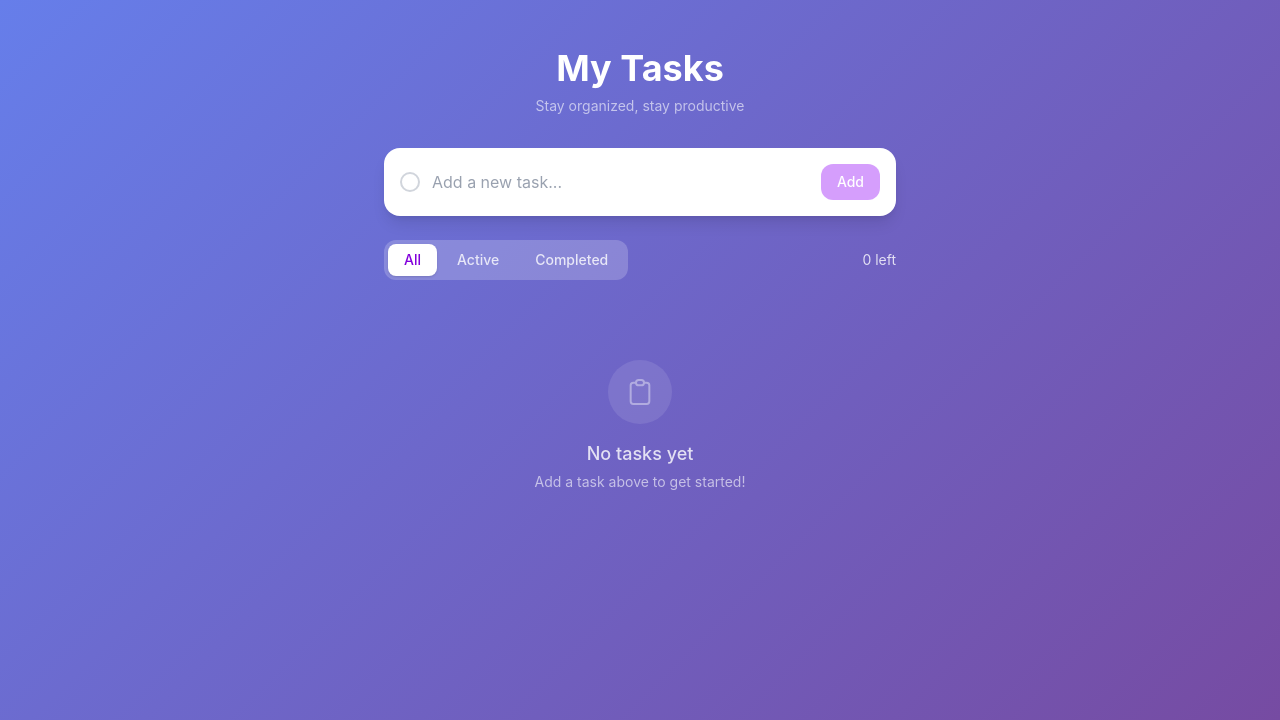
App › タスクを完了にすると activeCount が減る
Type "Task A" into the field with placeholder "Add a new task...".
click(620, 182); type("Task A")  # box [432,170,809,194]
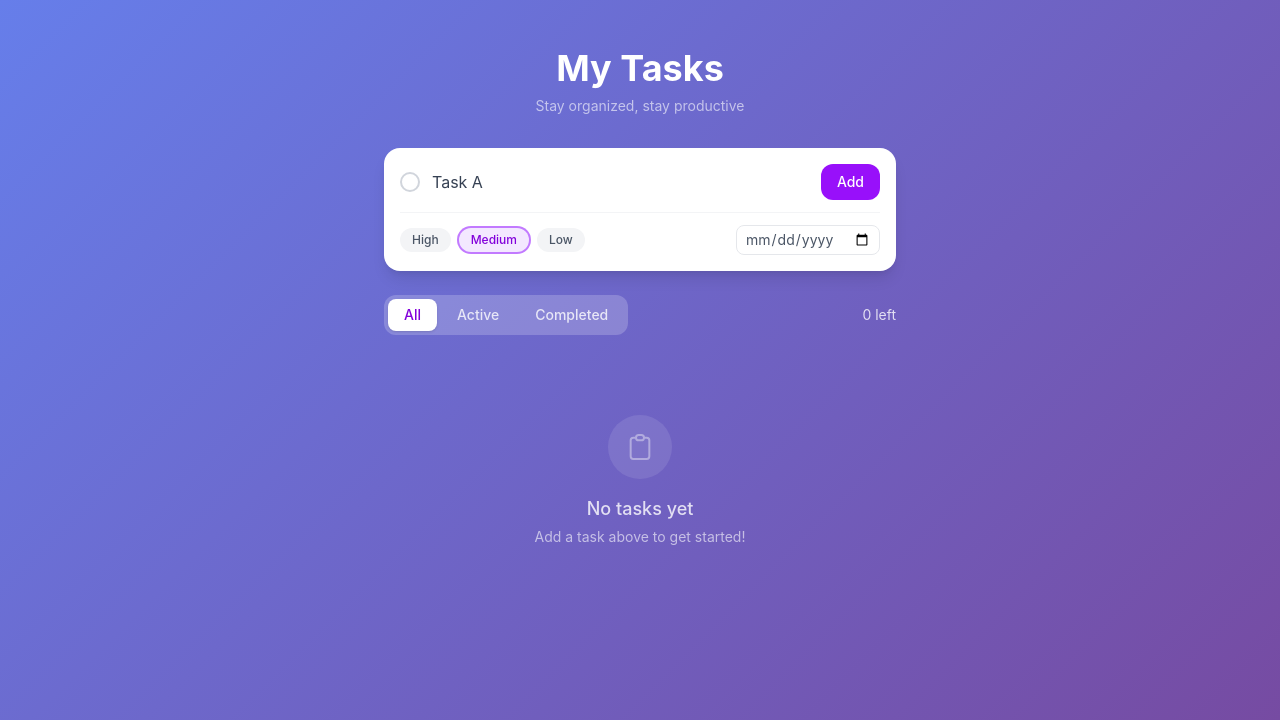
Click the button "Add".
click(850, 182)  # box [821,164,880,200]
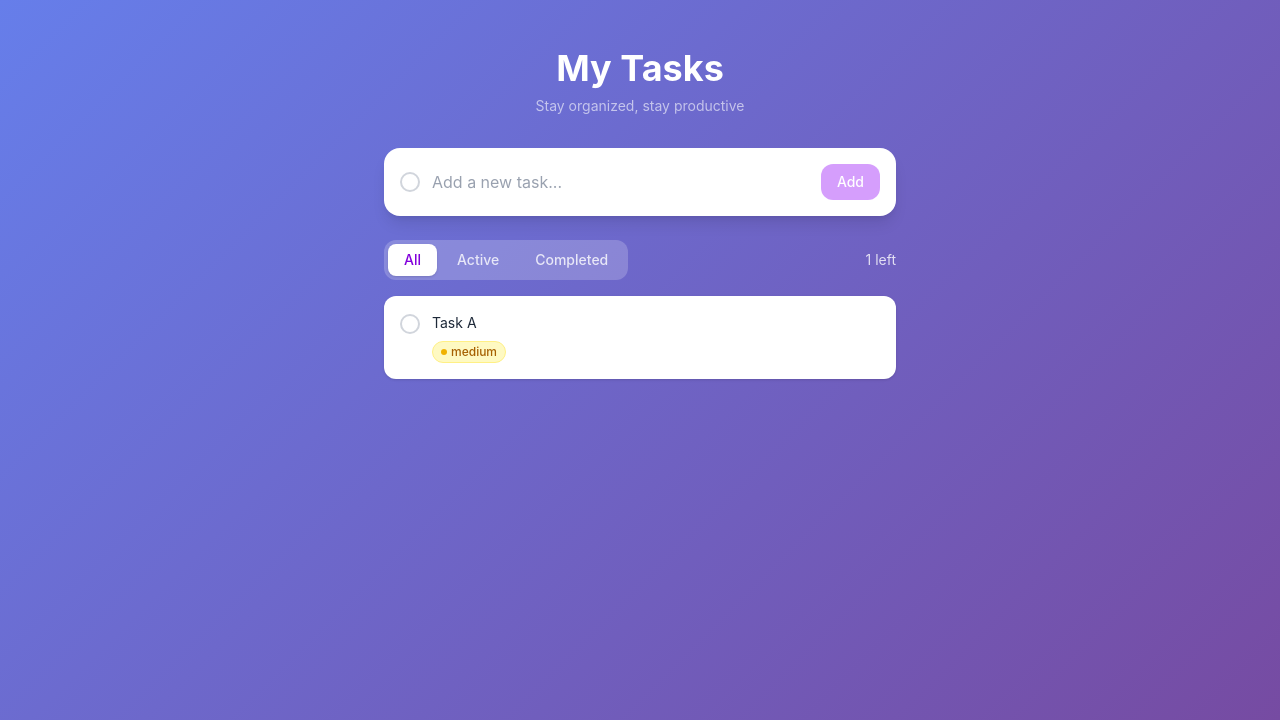
Expected: the text "1 left" is shown, [866,250,896,270]
Click the button named "Mark as complete".
click(410, 324)  # box [400,314,420,334]
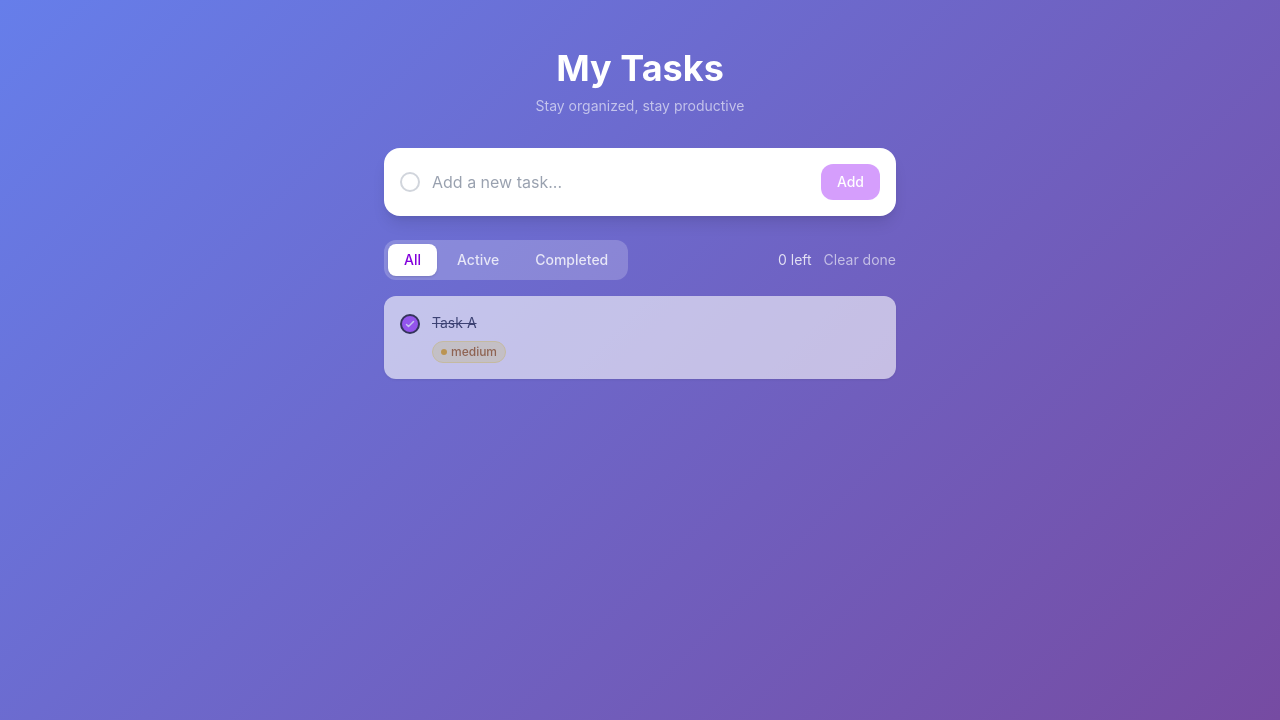
Expected: the text "0 left" is shown, [778,250,812,270]
